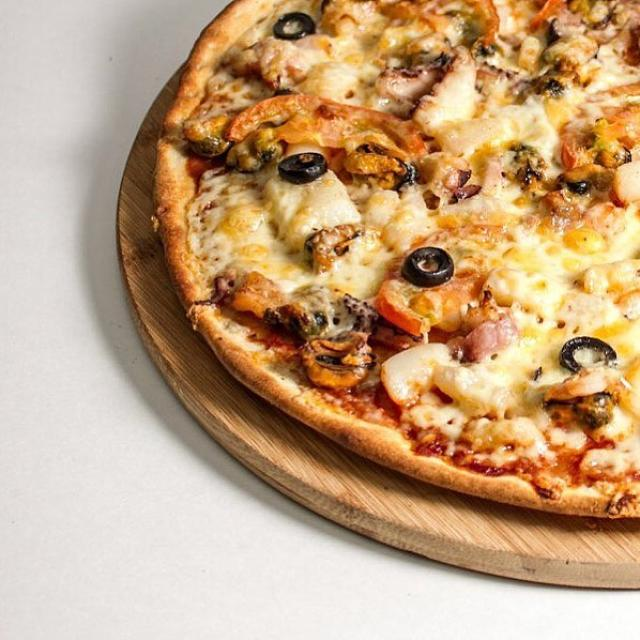black_olives: (355, 143, 415, 190), (401, 249, 454, 287), (560, 336, 615, 372), (525, 14, 576, 49), (279, 153, 327, 183), (528, 68, 573, 98), (274, 12, 315, 40), (566, 182, 592, 194)
pizza: (155, 1, 640, 518)
